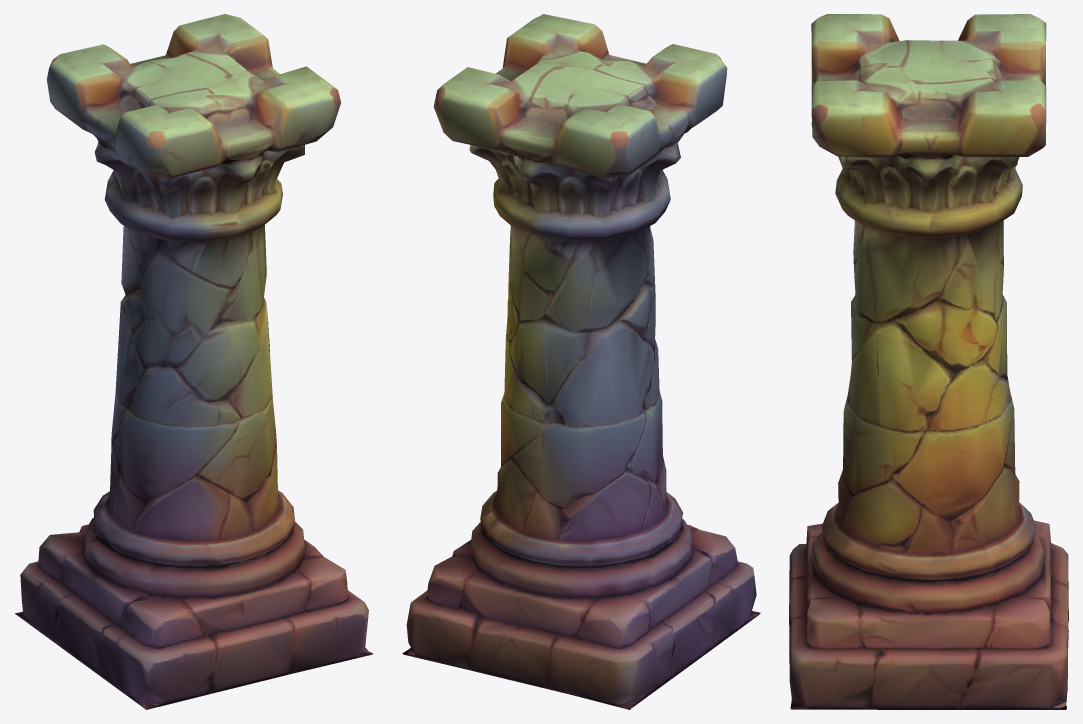
Rendered from ColumnCarved.fbx.
3 views of the same model, side by side, from view 1: azimuth 30°, elevation 25°; view 2: azimuth 150°, elevation 25°; view 3: azimuth 270°, elevation 25° (orthographic). The views are drawn at different scales.
Visible parts, largest first — view 1: ColumnCarved; view 2: ColumnCarved; view 3: ColumnCarved.
Boxes of the visible parts, left/top/right/bottom form: ColumnCarved: left=15, top=14, right=373, bottom=709; ColumnCarved: left=402, top=14, right=760, bottom=709; ColumnCarved: left=789, top=14, right=1068, bottom=709.
Size of the model in its own units: 0.4276 by 0.9961 by 0.4269.
